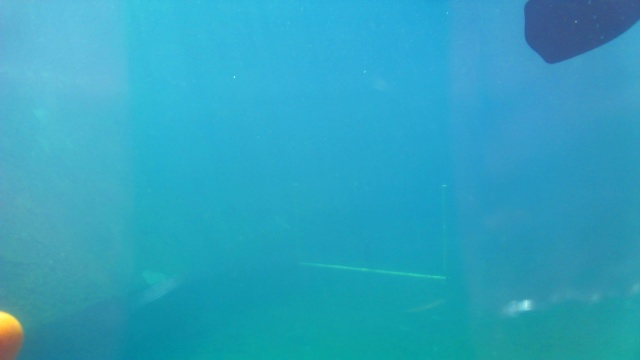channel: (295, 183, 447, 282)
